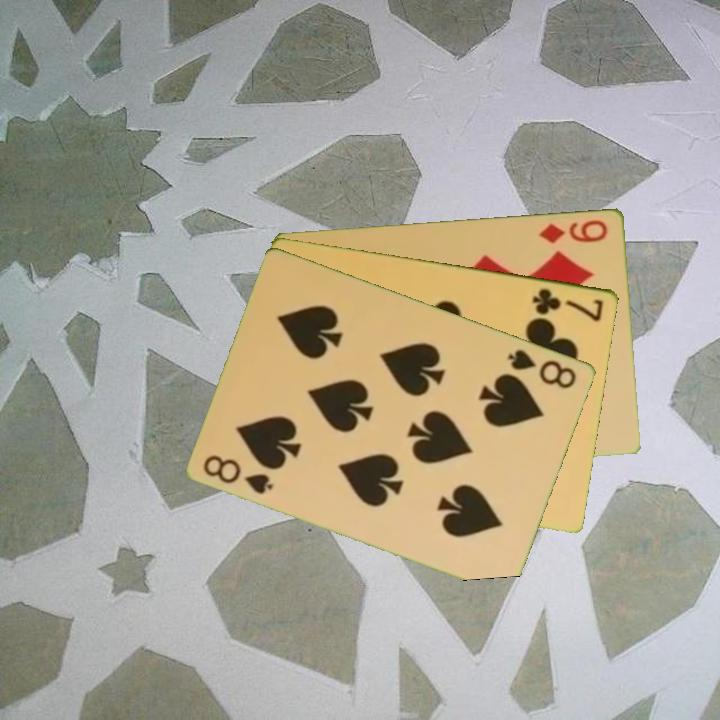7c: (529, 284, 607, 324)
8s: (200, 451, 277, 497), (505, 345, 580, 392)
9d: (536, 216, 611, 246)
